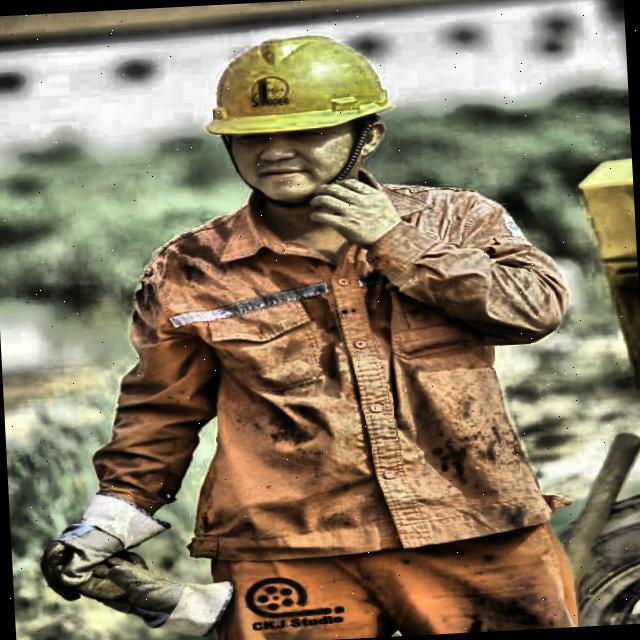helmet: (172, 22, 420, 226)
